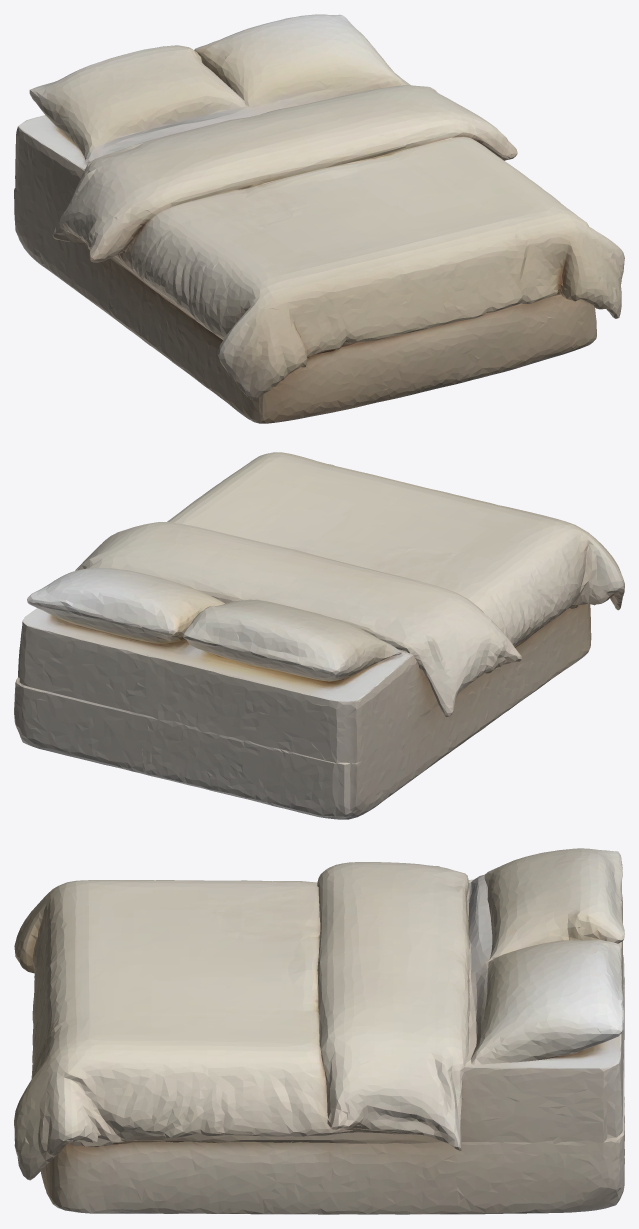
3 views of the same model, one above another, from view 1: azimuth 30°, elevation 25°; view 2: azimuth 150°, elevation 25°; view 3: azimuth 270°, elevation 25° (orthographic). The views are drawn at different scales.
Parts seen in each view (by area): view 1: geometry_0; view 2: geometry_0; view 3: geometry_0.
Boxes of the visible parts, bbox=[...] form: geometry_0: bbox=[14, 14, 624, 423]; geometry_0: bbox=[14, 452, 624, 819]; geometry_0: bbox=[14, 848, 624, 1214].
Bounding box in the file's own units: 0.9353 × 0.3738 × 0.9992.
1 material, 1 textured.
